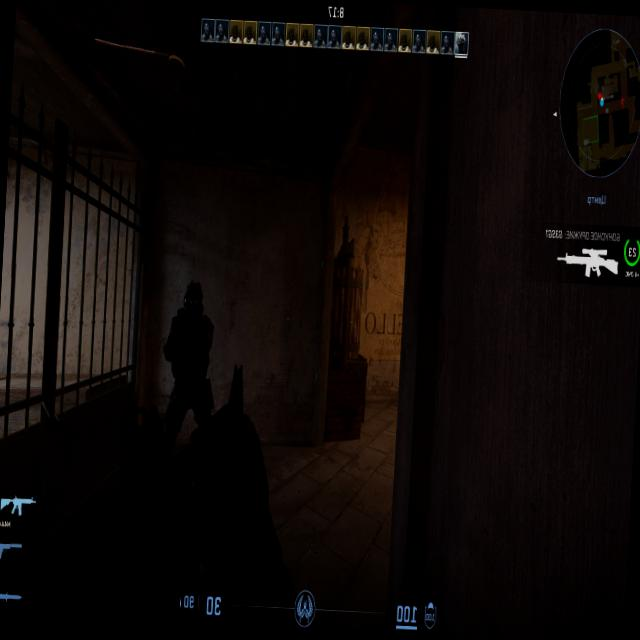CT: (168, 279, 212, 432)
CT_heat: (187, 284, 200, 312)
